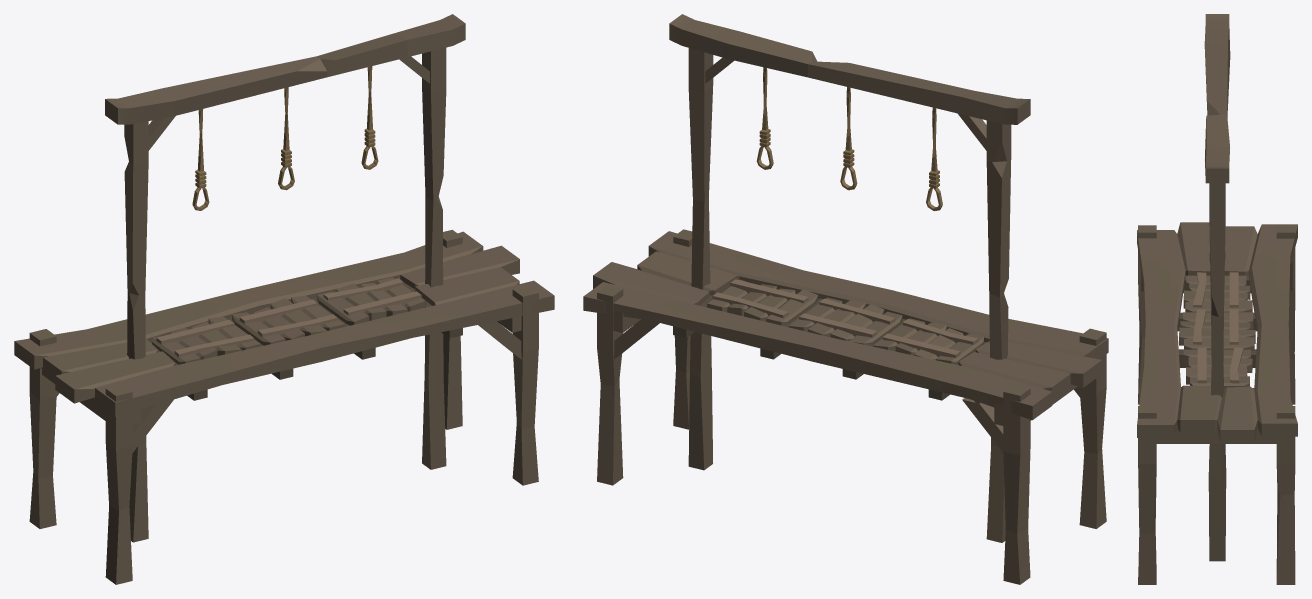
The model's file is SM_Prop_Gallows_01.fbx.
3 renders of one model, left to right at view 1: azimuth 30°, elevation 25°; view 2: azimuth 150°, elevation 25°; view 3: azimuth 270°, elevation 25°, orthographic. The views are drawn at different scales.
Visible parts, largest first — view 1: SM_Prop_Gallows_01, SM_Prop_Gallows_Trapdoor_02, SM_Prop_Gallows_Trapdoor_03, SM_Prop_Gallows_Trapdoor_01; view 2: SM_Prop_Gallows_01, SM_Prop_Gallows_Trapdoor_02, SM_Prop_Gallows_Trapdoor_03, SM_Prop_Gallows_Trapdoor_01; view 3: SM_Prop_Gallows_01, SM_Prop_Gallows_Trapdoor_02, SM_Prop_Gallows_Trapdoor_03, SM_Prop_Gallows_Trapdoor_01.
Part boxes in pixels (x1,y1,x2,y2): SM_Prop_Gallows_01: [14, 14, 554, 584]; SM_Prop_Gallows_Trapdoor_02: [232, 295, 344, 345]; SM_Prop_Gallows_Trapdoor_03: [317, 277, 425, 325]; SM_Prop_Gallows_Trapdoor_01: [152, 317, 260, 364]; SM_Prop_Gallows_01: [583, 14, 1108, 584]; SM_Prop_Gallows_Trapdoor_02: [788, 297, 902, 345]; SM_Prop_Gallows_Trapdoor_03: [707, 279, 818, 326]; SM_Prop_Gallows_Trapdoor_01: [873, 318, 983, 364]; SM_Prop_Gallows_01: [1137, 14, 1297, 584]; SM_Prop_Gallows_Trapdoor_02: [1179, 309, 1255, 350]; SM_Prop_Gallows_Trapdoor_03: [1183, 347, 1252, 388]; SM_Prop_Gallows_Trapdoor_01: [1183, 272, 1252, 312].
Size of the model in its own units: 6.04 by 5.43 by 1.98.
